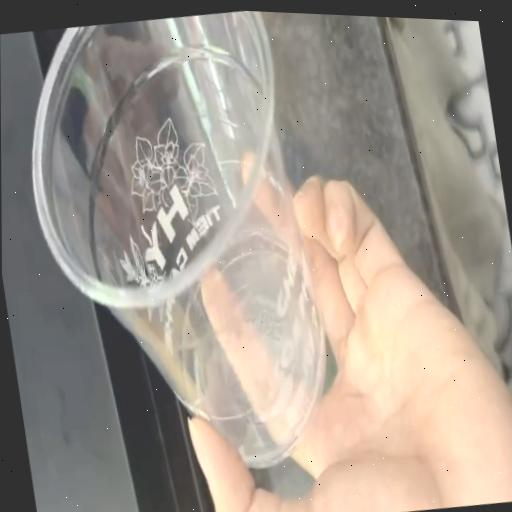ly_nhua: (32, 11, 325, 466)
